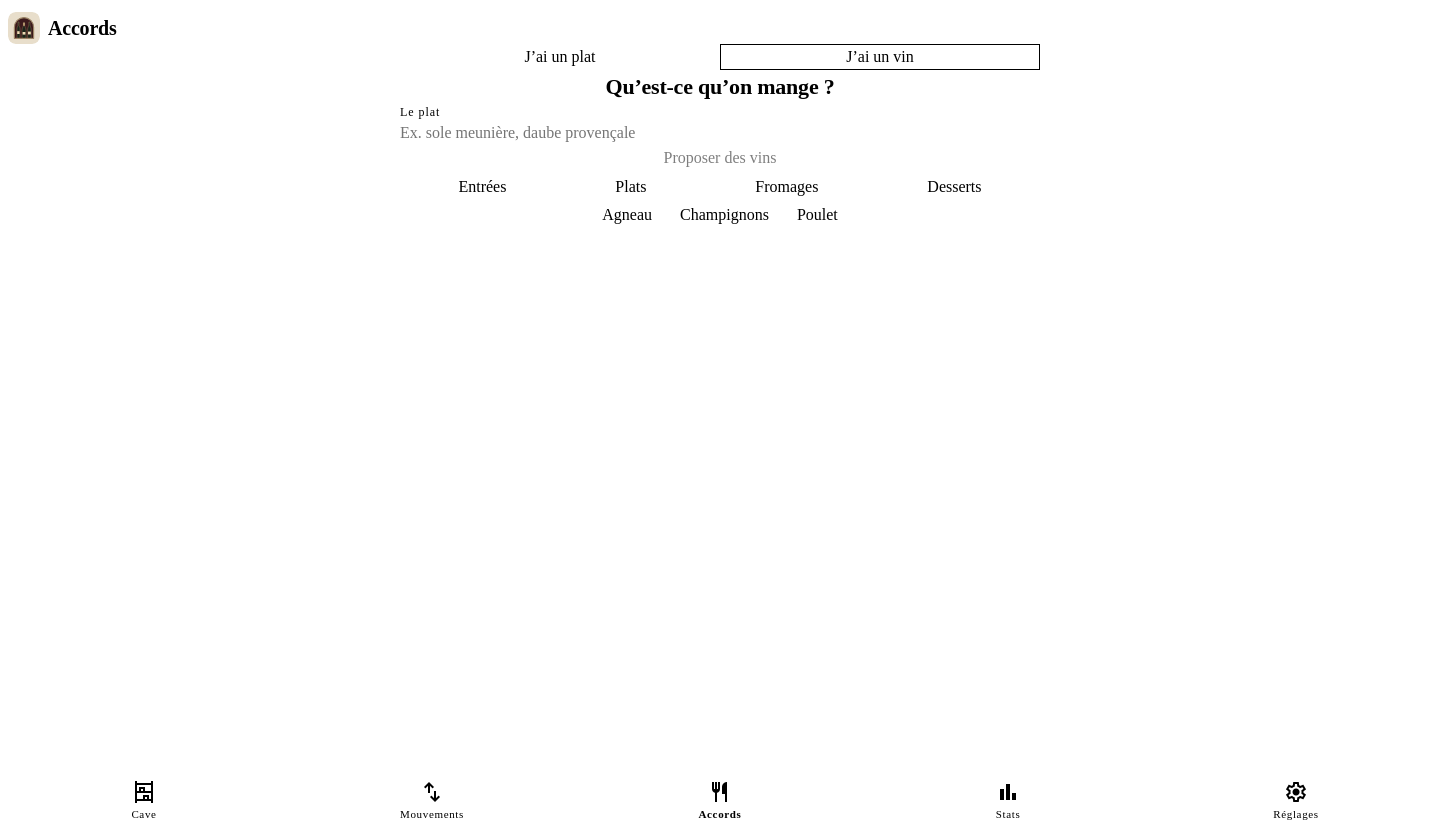
Test case: suggestions pendant la frappe : toucher une entrée lance l’accord
This screenshot has width=1440, height=822.
Type "v" into the field labelled "Le plat" at (720, 133), box [400,121,1040,145]
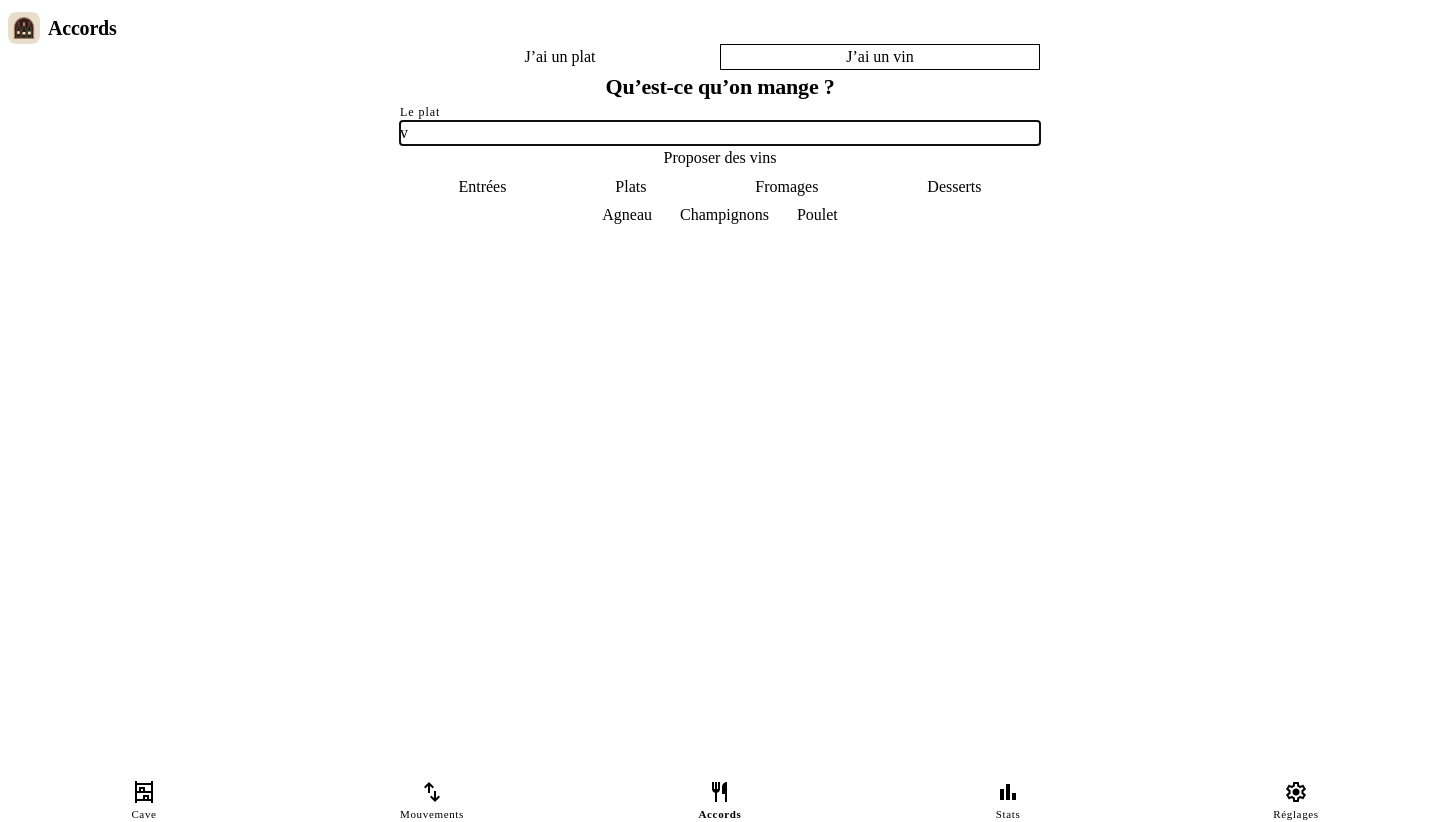
Type "ol" into the field labelled "Le plat" at (720, 133), box [400,121,1040,145]
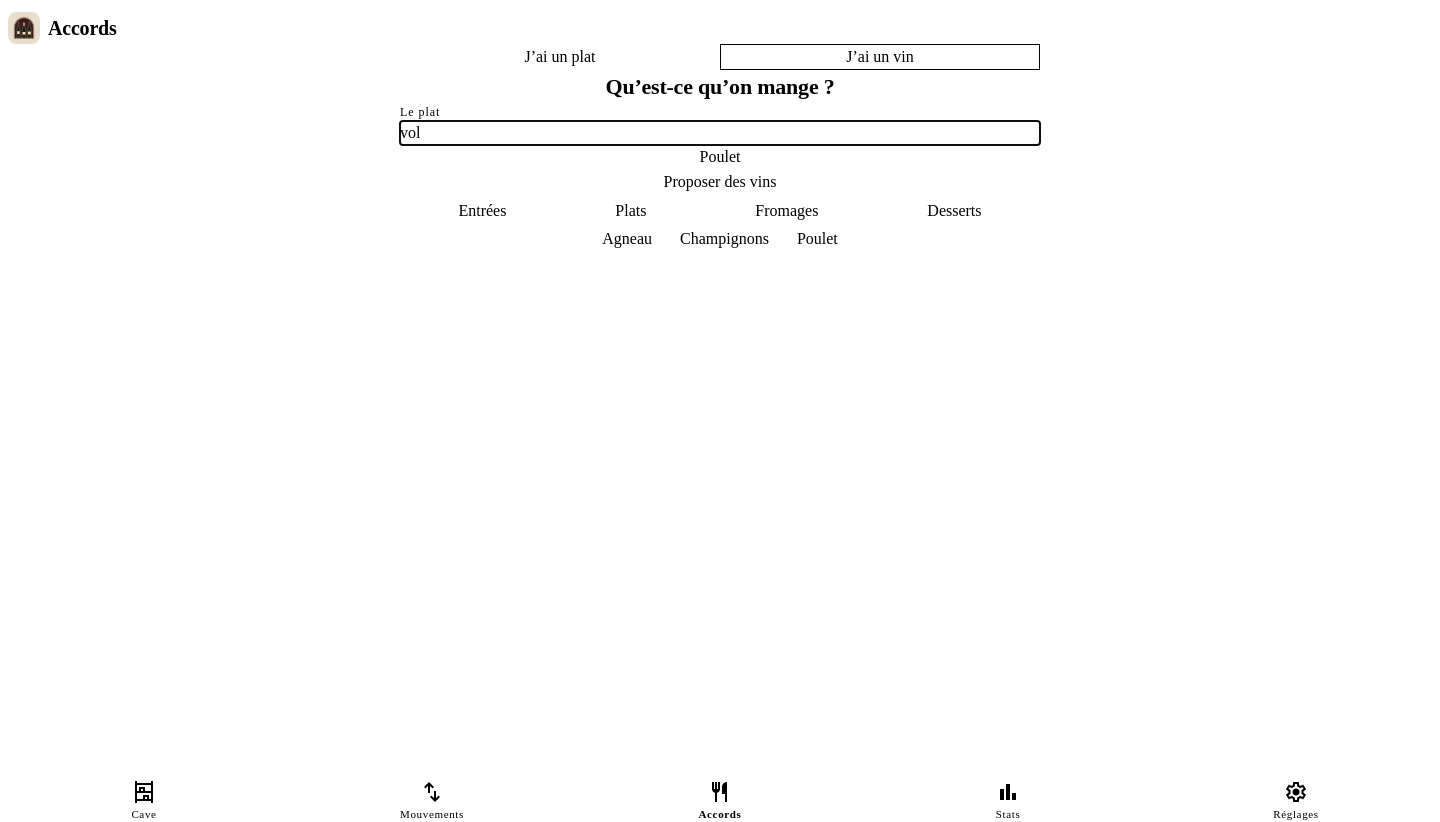
Click the button "Poulet" below "Le plat" at (720, 157), box [686,145,754,169]
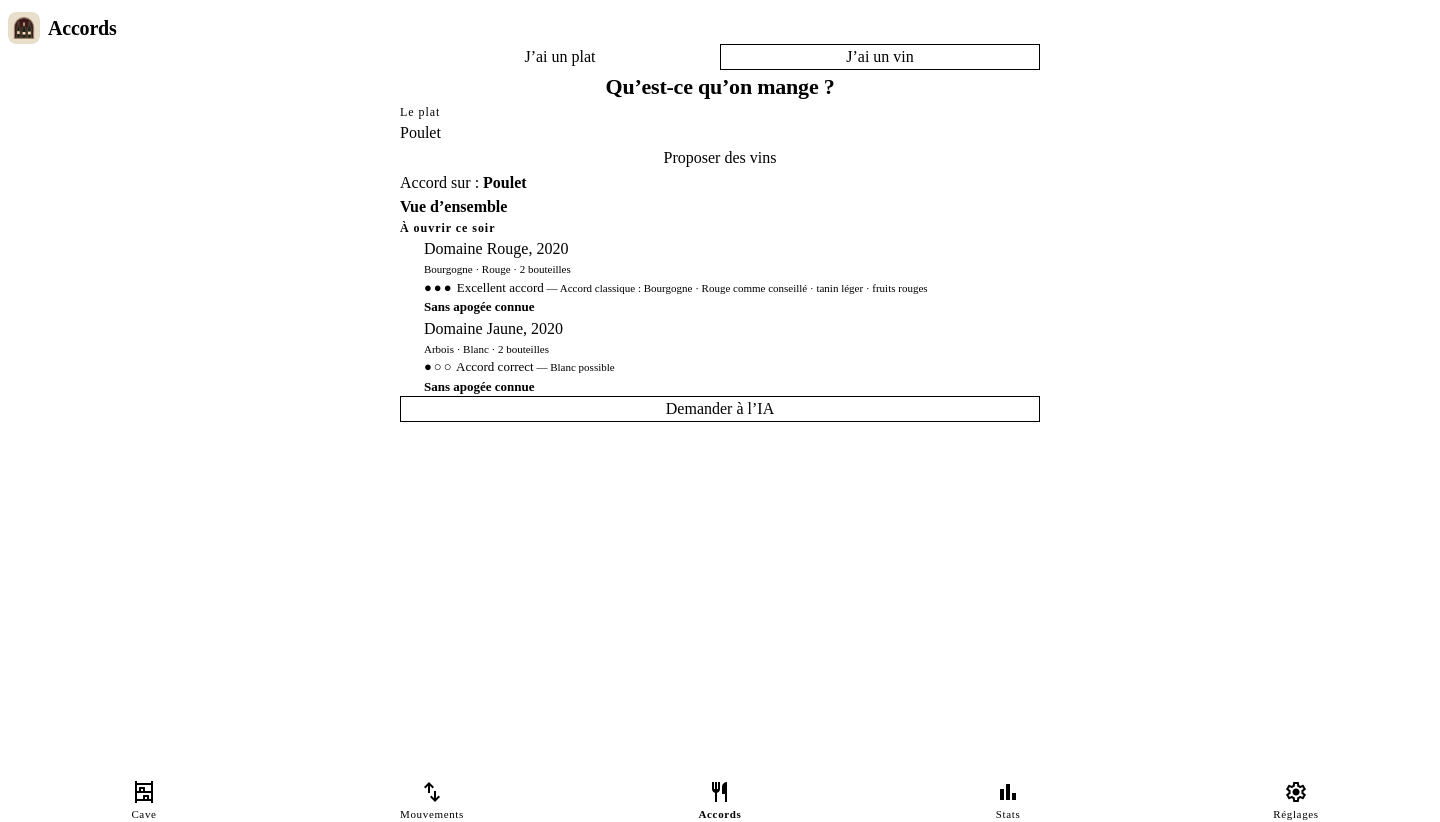
Check: the field labelled "Le plat" holds "Poulet", box [400,121,1040,145]
Check: the list "Suggestions" is gone
Check: the link "Domaine Rouge" is shown, box [408,240,928,314]
